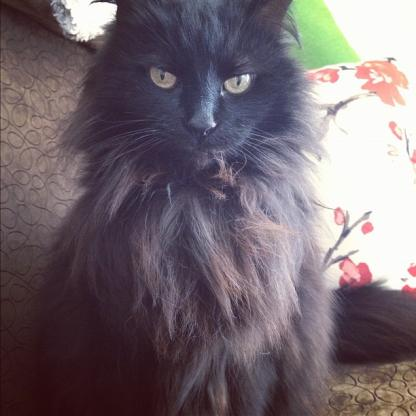Target: (54, 0, 345, 416)
